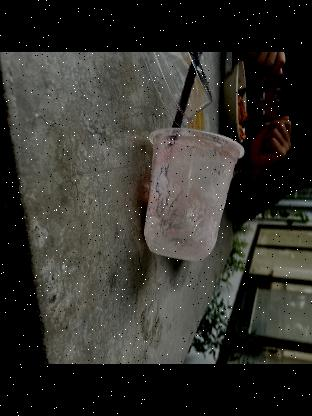Others: (140, 128, 250, 262), (152, 52, 212, 122), (165, 52, 207, 149)
